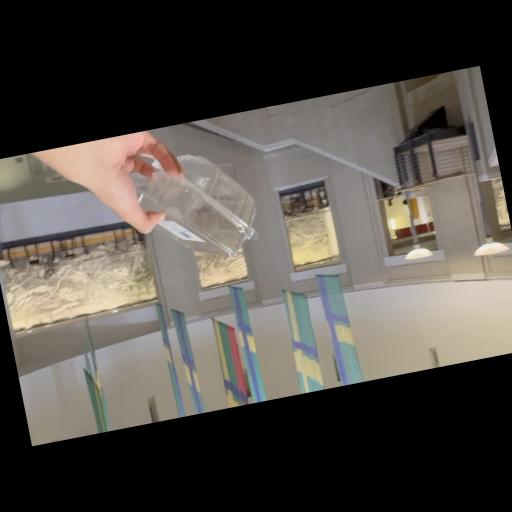small_plastic_container: (118, 129, 268, 279)
